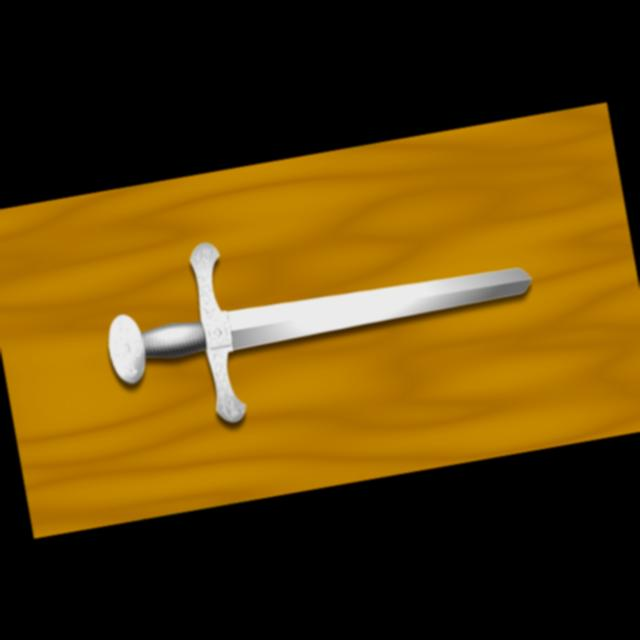long sword: (89, 183, 549, 450)
